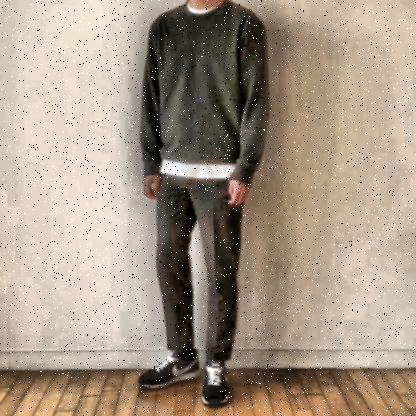short sleeve shirt: (160, 3, 239, 179)
sweater: (140, 2, 273, 189)
trousers: (150, 173, 244, 364)
